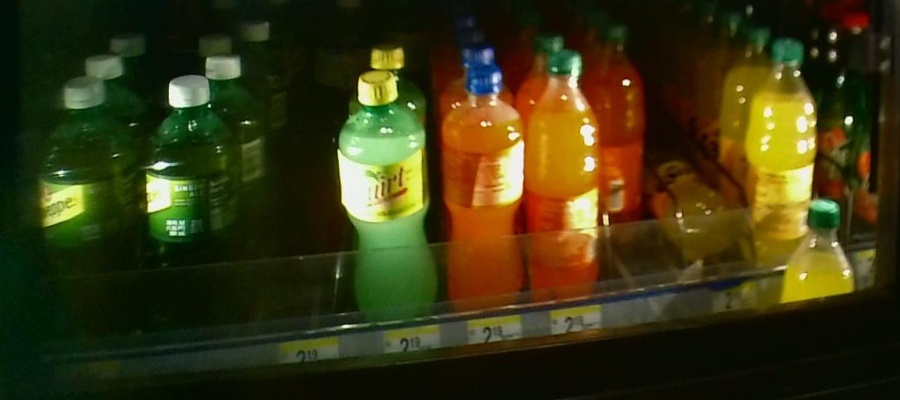bottle: (134, 74, 239, 342), (29, 74, 132, 345), (331, 74, 433, 331), (438, 66, 522, 311), (524, 53, 604, 306), (747, 36, 814, 261), (608, 30, 647, 251), (670, 160, 730, 278)
